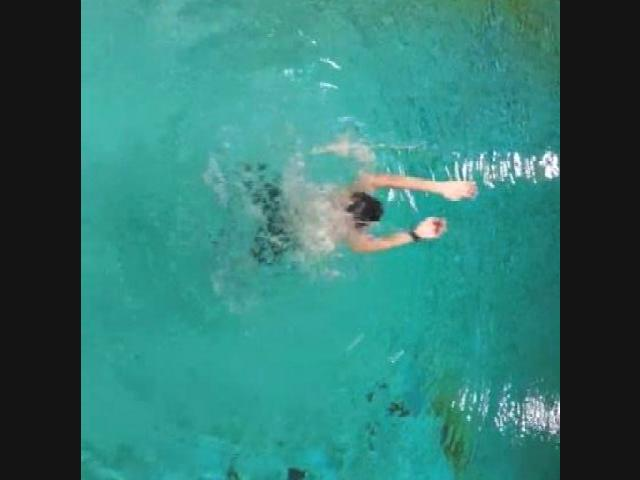drowning: (234, 162, 488, 266)
